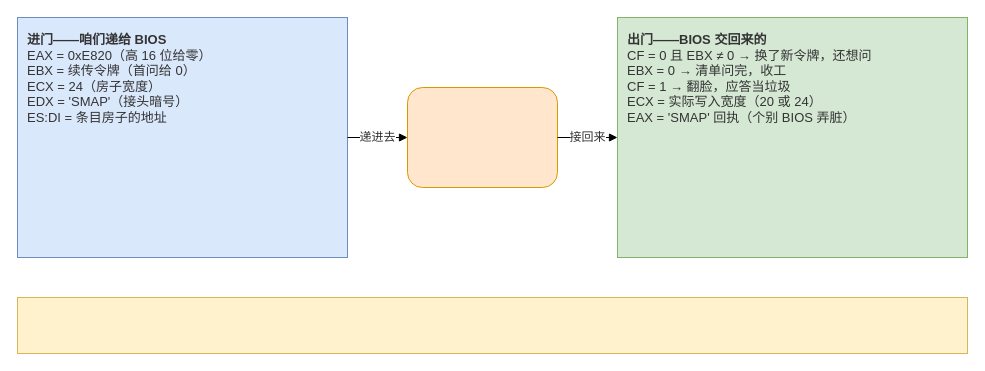
The diagram is 985 pixels wide and 371 high, and some of its shapes have lost their labels. The box of each missing label's shape, as (x1, y1, x2, y2) in pixels:
INT 15h BIOS 不是函数 约定薄·例外多: (406, 86, 558, 188)
回来的头一件事：过三道闸 ——CF 没拉 · EAX 回执 = 'SMAP' · 实际宽度 ≥ 20: (16, 296, 968, 354)
